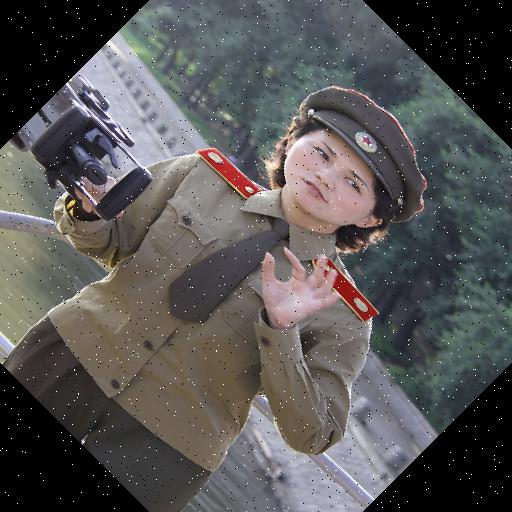north army: (53, 45, 418, 493)
